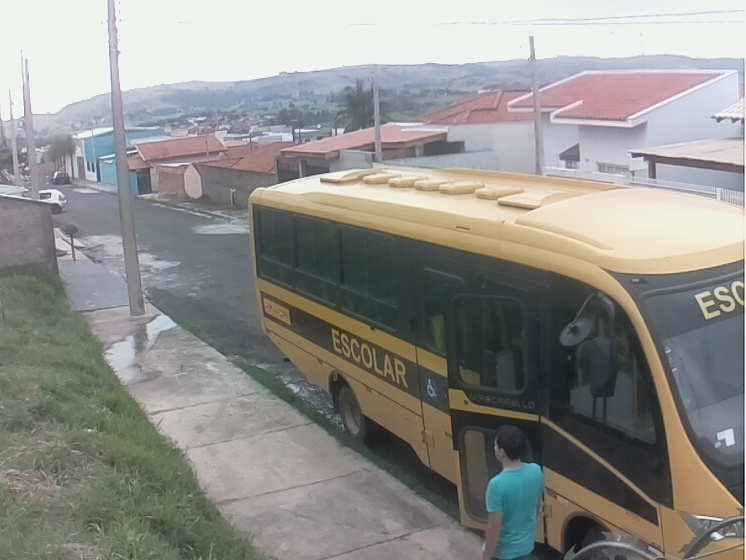person: (480, 424, 545, 560)
